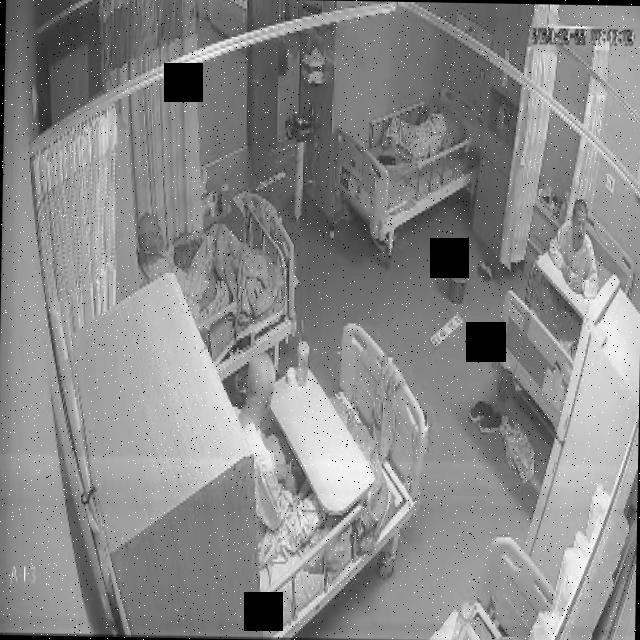bed: (248, 323, 427, 640), (492, 210, 638, 435), (169, 193, 297, 386), (333, 85, 478, 242)
lie: (376, 102, 449, 176)
patient: (230, 347, 330, 568), (134, 200, 226, 322), (546, 195, 602, 299), (376, 102, 451, 174)
sit: (228, 345, 328, 571), (134, 200, 225, 320), (546, 195, 600, 298)
